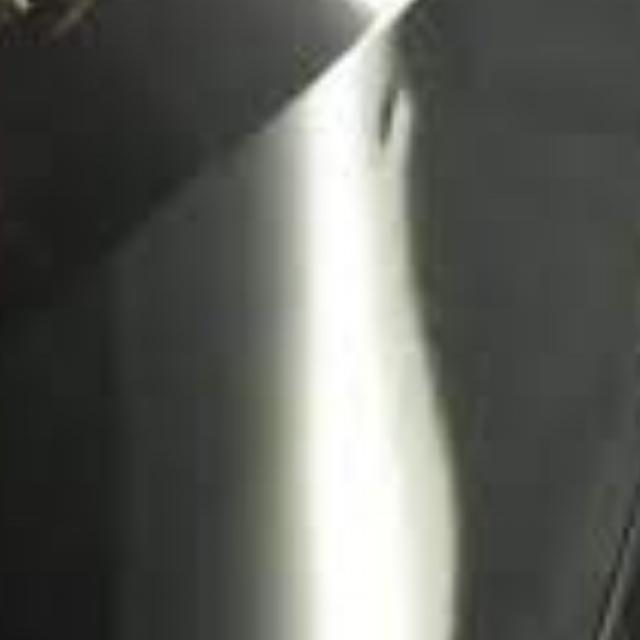dents: (354, 83, 493, 187)
